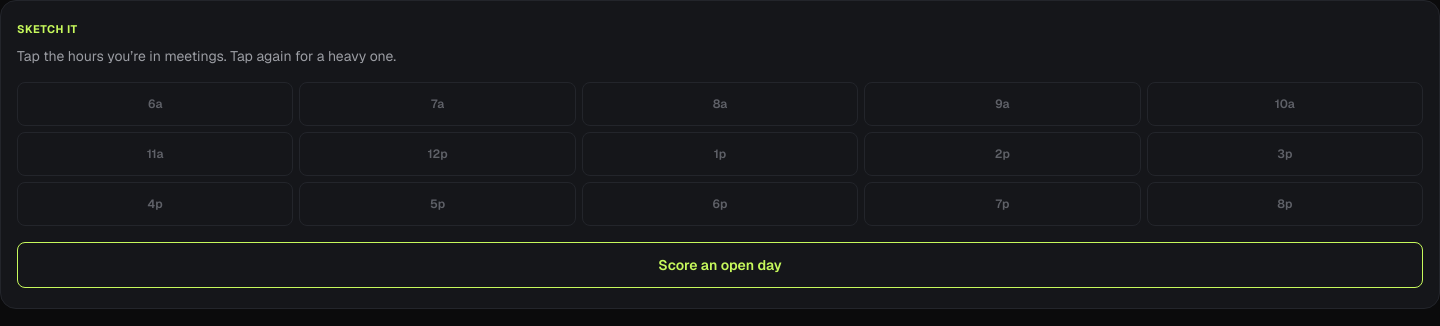
Test: SketchDoor › scores the tapped hours
Later steps or results of the test are not shown.
Expected: the button "Score an open day" is shown, [17,242,1423,288]
Click the button labelled "9a": point(1002, 104) [864,82,1141,126]
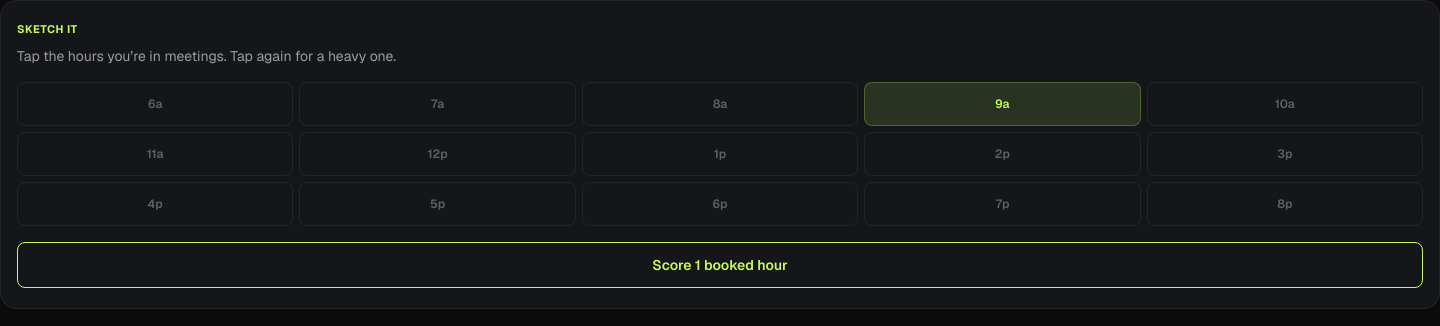
Click the button labelled "10a": point(1285, 104) [1147,82,1423,126]
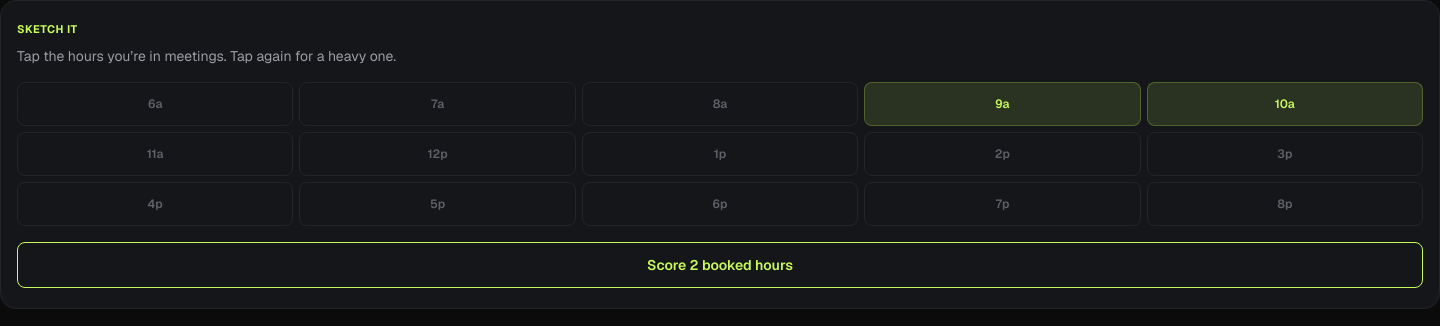
Click the button named "10a, booked": point(1285, 104) [1147,82,1423,126]
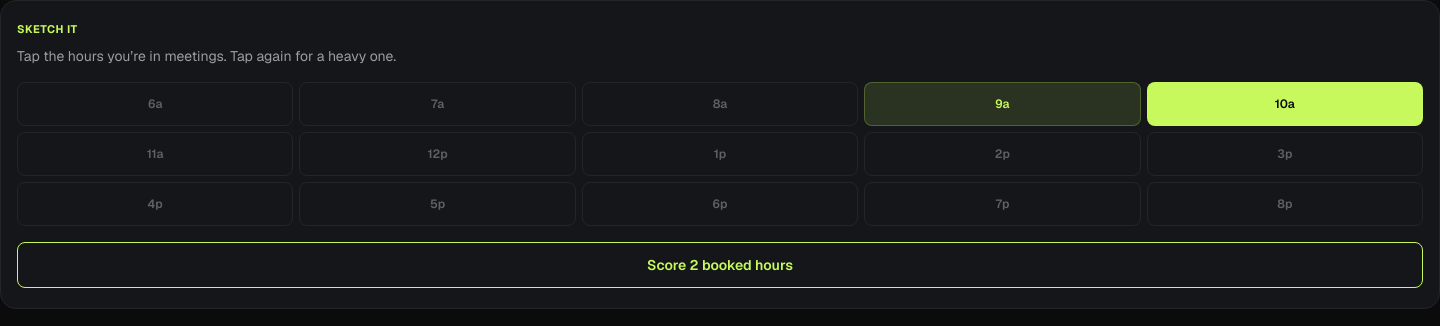
Expected: the button named "10a, heavy" is shown, [1147,82,1423,126]
